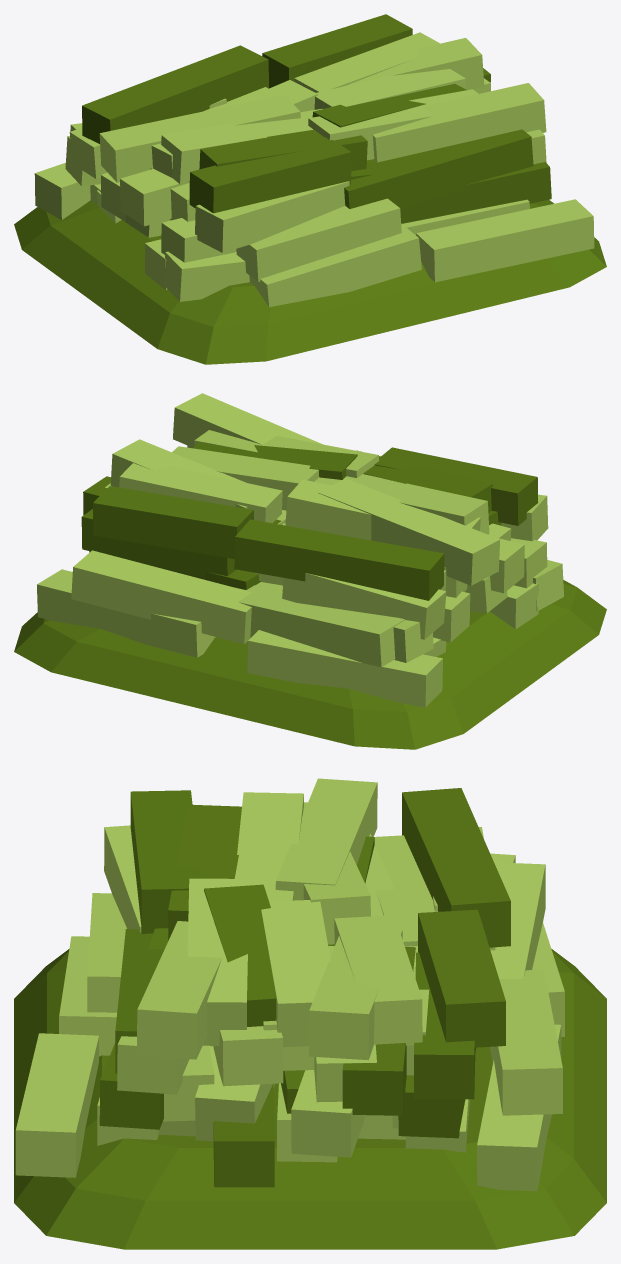
File: SM_Cook_Topping_Cucumber_HD_01.fbx
The picture shows the model from 3 angles, top to bottom: view 1: azimuth 30°, elevation 25°; view 2: azimuth 150°, elevation 25°; view 3: azimuth 270°, elevation 25°; orthographic projection. The views are drawn at different scales.
Parts seen in each view (by area): view 1: SM_Cook_Topping_Cucumber_HD_01; view 2: SM_Cook_Topping_Cucumber_HD_01; view 3: SM_Cook_Topping_Cucumber_HD_01.
Part boxes in pixels (x1,y1,x2,y2): SM_Cook_Topping_Cucumber_HD_01: [14, 14, 606, 364]; SM_Cook_Topping_Cucumber_HD_01: [14, 393, 606, 749]; SM_Cook_Topping_Cucumber_HD_01: [14, 778, 606, 1249].
Size of the model in its own units: 0.128 by 0.0415 by 0.108.
1 material, 1 textured.
